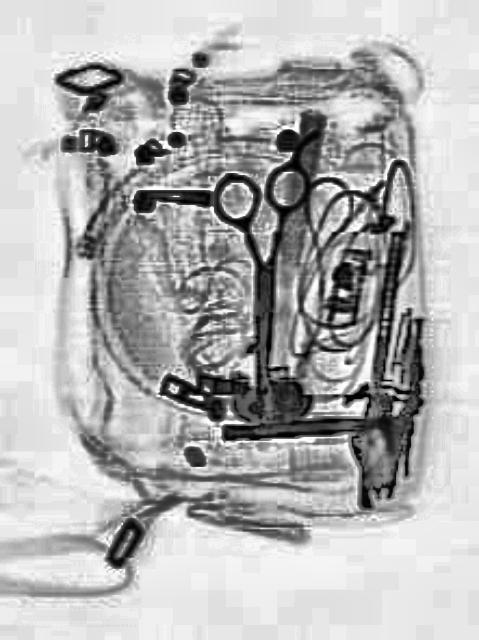Scissors: (212, 160, 308, 388)
